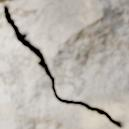brick: (8, 0, 128, 128), (0, 5, 117, 128)
crack: (0, 0, 126, 128)
